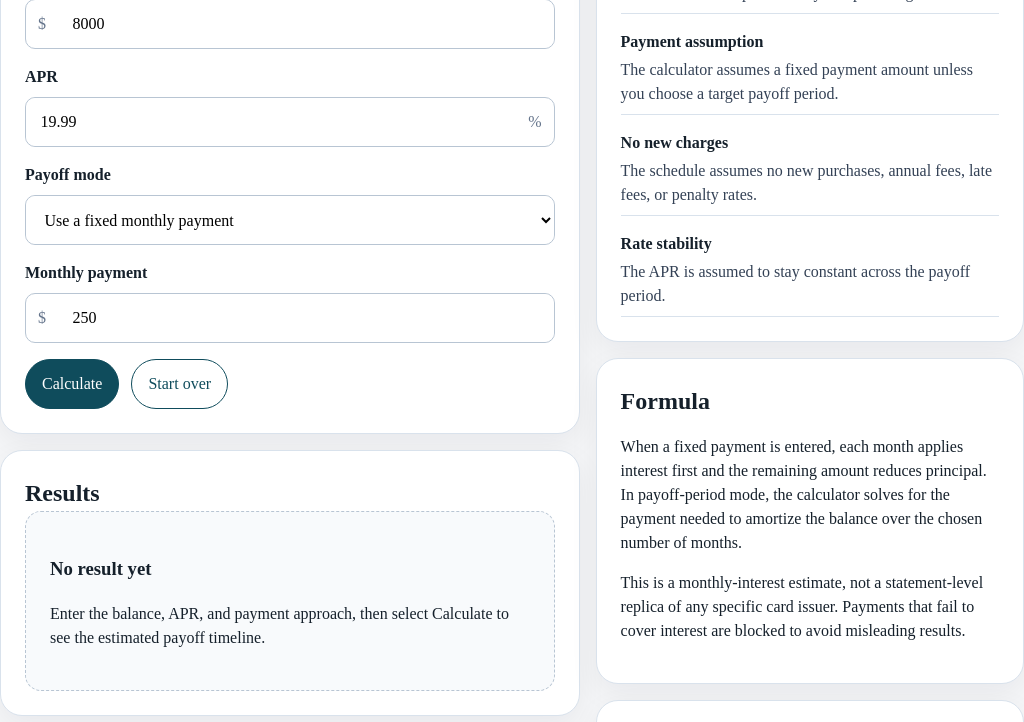
Scenario: calculator layout migration › credit card calculator shows an empty state, calculates, and resets
The image size is (1024, 722).
(page scrolled)
Check: the heading "No result yet" is shown, box top-left (50, 558), bottom-right (152, 579)
Click the button "Calculate": (72, 384) top-left (25, 359), bottom-right (119, 409)
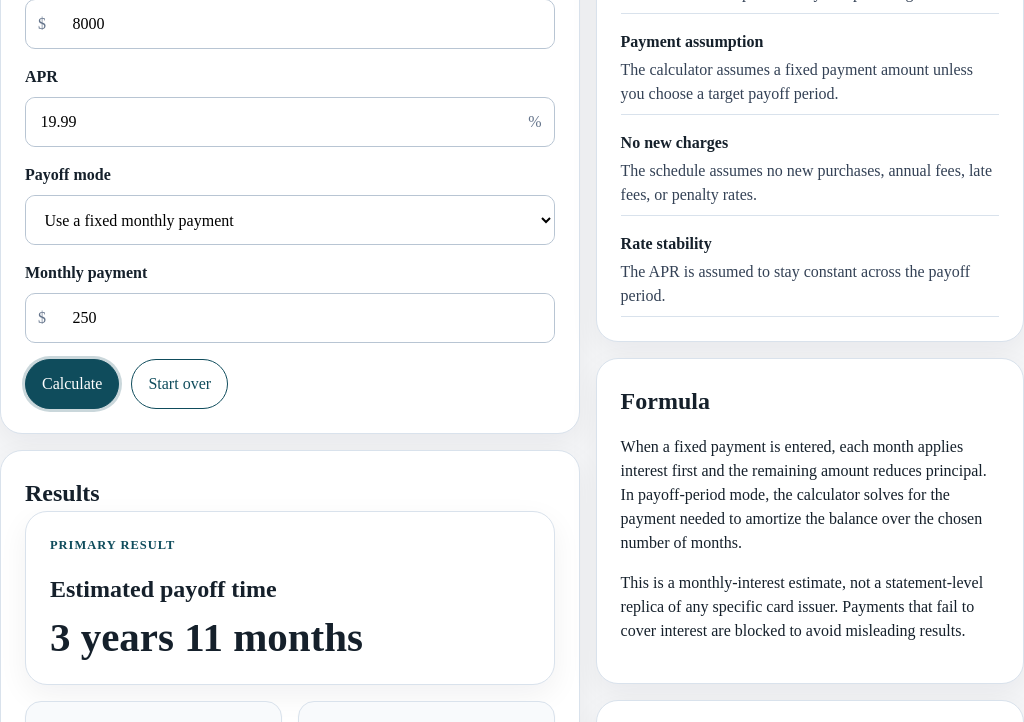
Check: the heading "Estimated payoff time" is shown, box top-left (50, 576), bottom-right (277, 602)
Click the button "Start over": (180, 384) top-left (131, 359), bottom-right (228, 409)
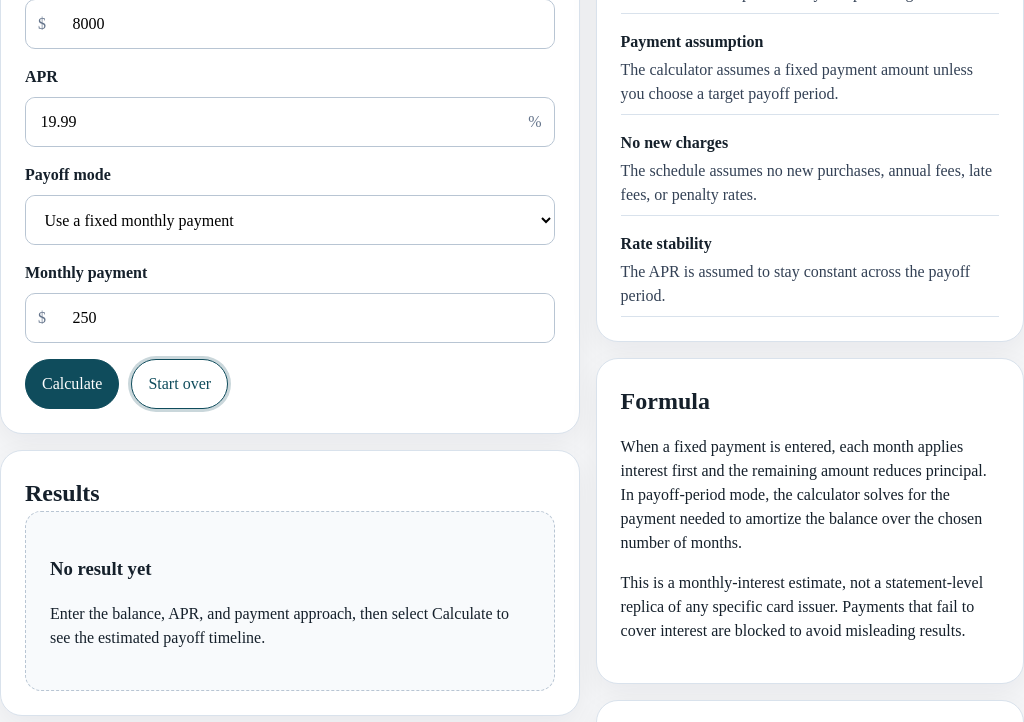
Check: the heading "No result yet" is shown, box top-left (50, 558), bottom-right (152, 579)
